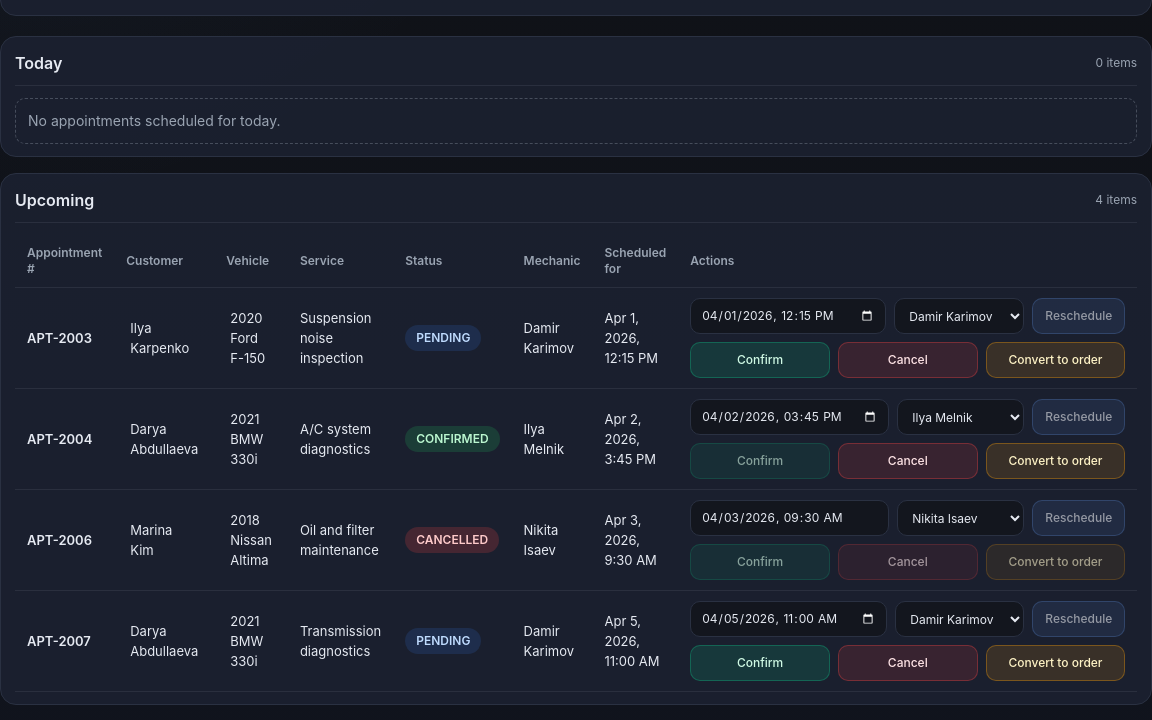
AppointmentsScheduling › converts appointment to order from row action
(page scrolled)
Expected: the heading "Today" is shown, [15,51,62,75]
Click the button "Convert to order" in the row of "APT-2003".
click(1055, 360)  # box [986,342,1125,378]
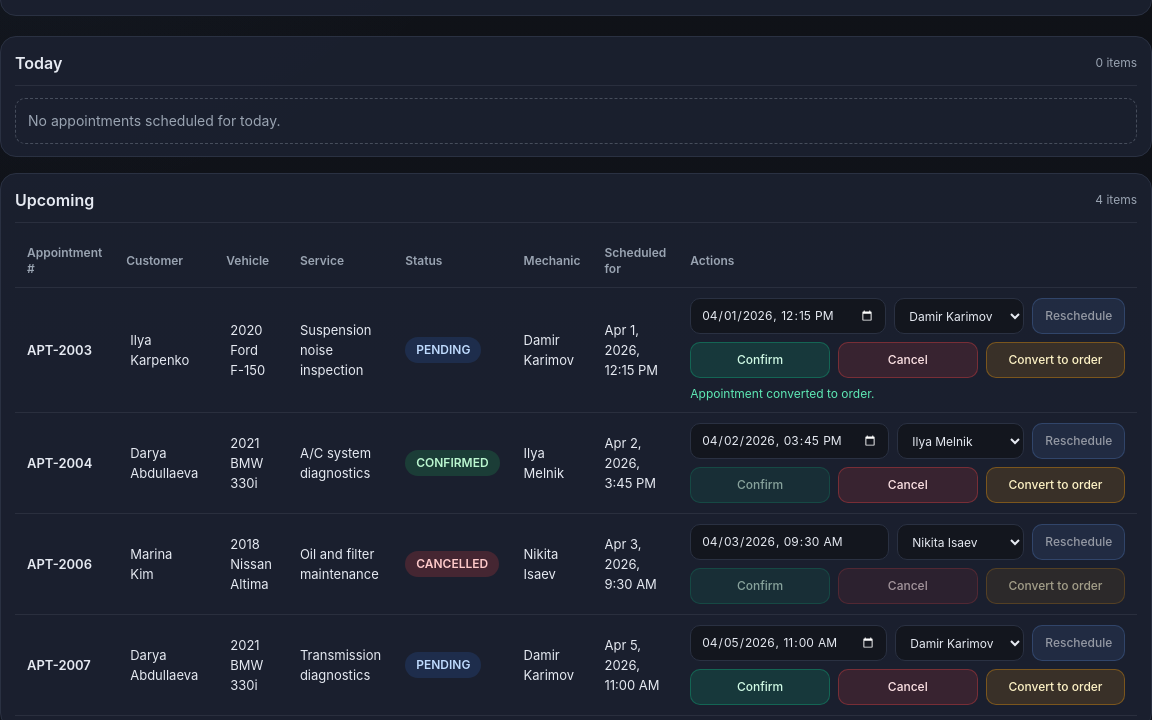
Expected: the text "Appointment converted to order." is shown, [690,386,874,401]
